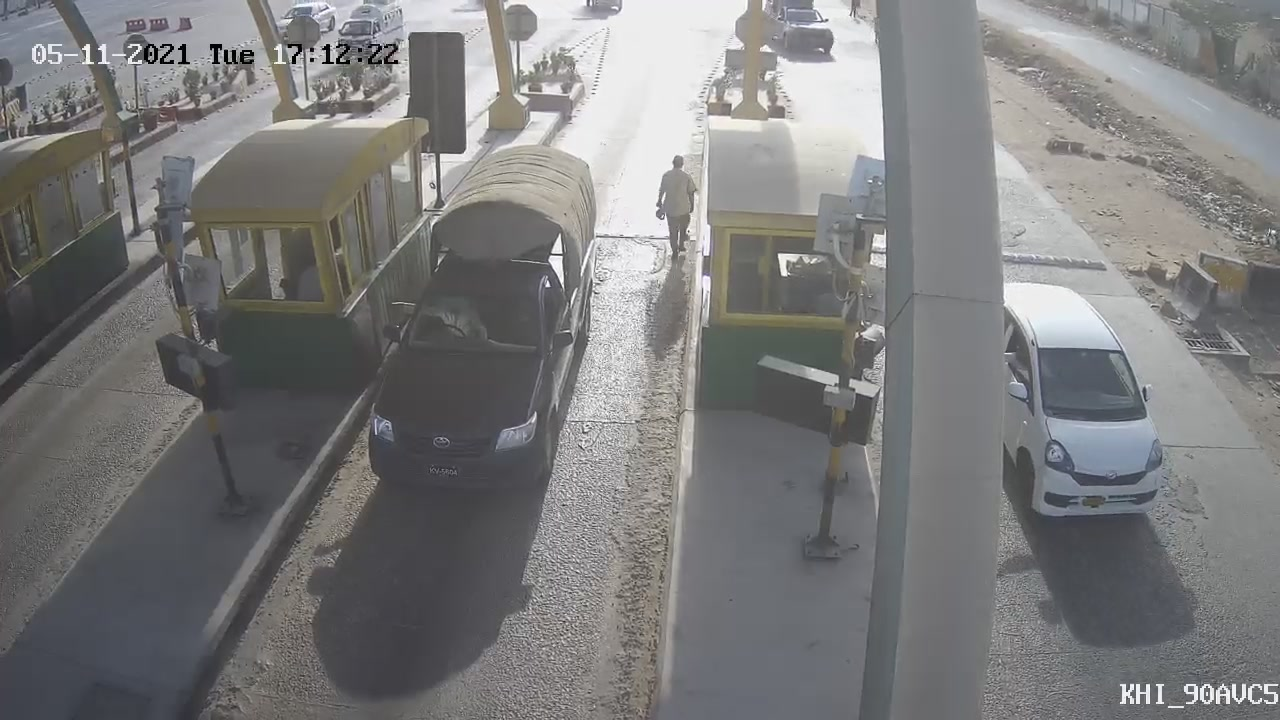F1: (343, 122, 625, 518)
